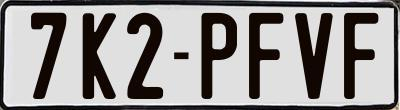2: (124, 11, 161, 100)
7: (31, 10, 70, 97)
F: (341, 12, 379, 103), (246, 10, 284, 99)
K: (82, 10, 121, 102)
P: (201, 10, 243, 102)
V: (294, 12, 337, 98)
